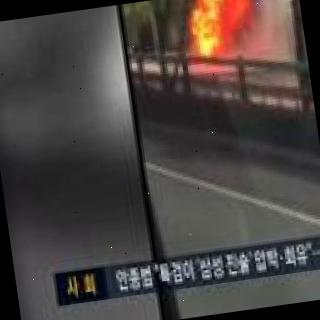fire: (179, 0, 265, 69)
